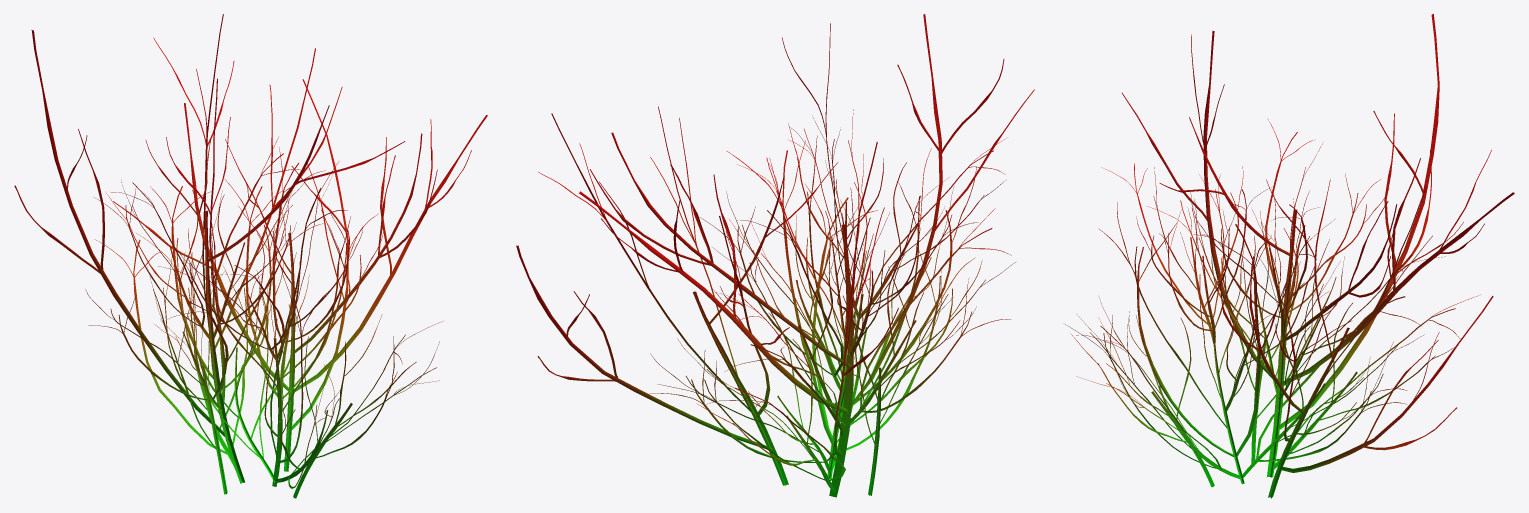
File: Leptadenia_LOD1_Var7_xdkgfgtqx.fbx
The picture shows the model from 3 angles, left to right: view 1: azimuth 30°, elevation 25°; view 2: azimuth 150°, elevation 25°; view 3: azimuth 270°, elevation 25°; orthographic projection. The views are drawn at different scales.
Parts seen in each view (by area): view 1: _kdvq_Var7_LOD1; view 2: _kdvq_Var7_LOD1; view 3: _kdvq_Var7_LOD1.
Boxes of the visible parts, left/top/right/bottom form: _kdvq_Var7_LOD1: left=14, top=14, right=487, bottom=498; _kdvq_Var7_LOD1: left=516, top=14, right=1034, bottom=497; _kdvq_Var7_LOD1: left=1065, top=14, right=1514, bottom=498.
Bounding box in the file's own units: 78.28 × 79.58 × 77.17.
